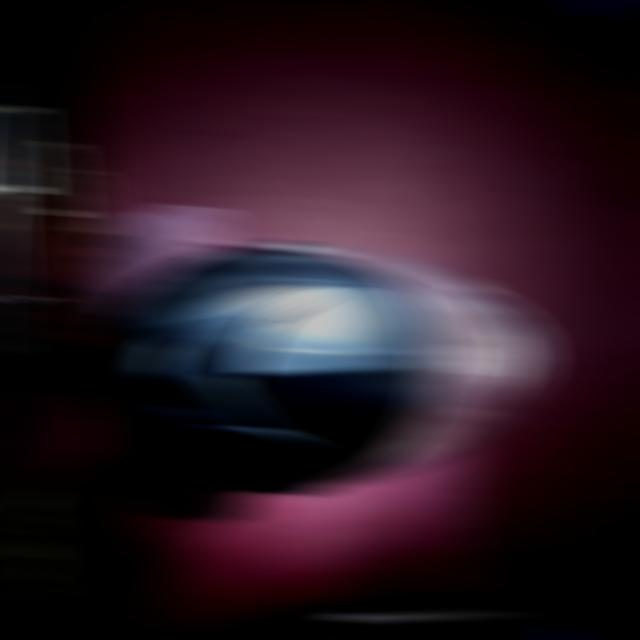With Helmet: (83, 237, 554, 496)
